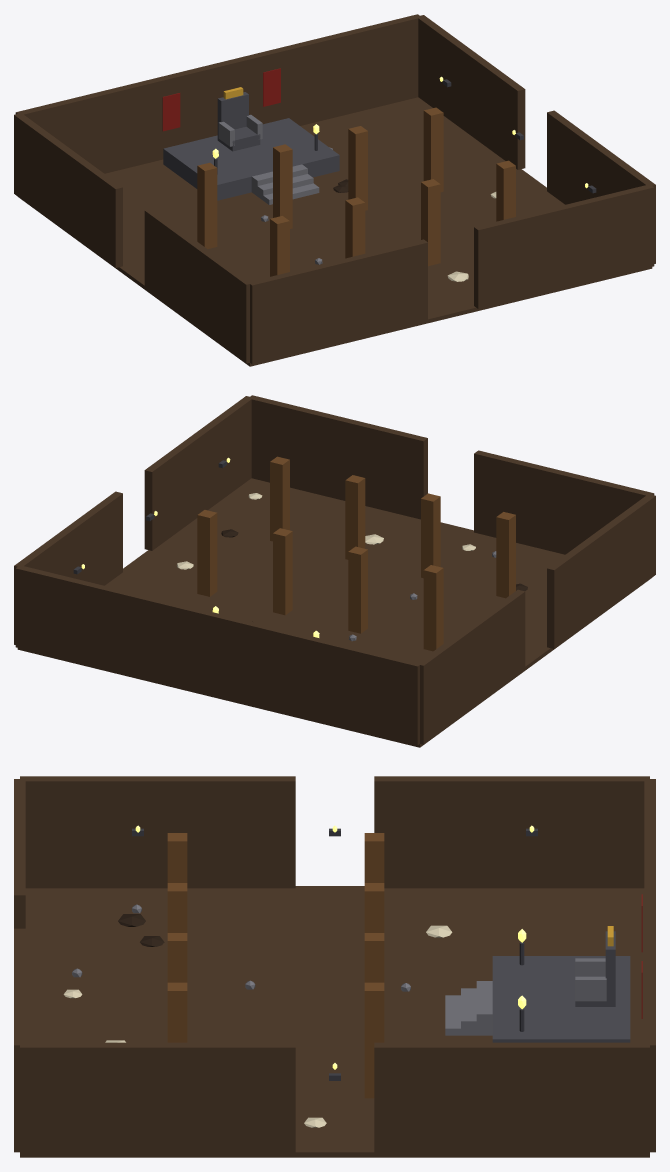
The model's file is throne_hall.glb.
3 renders of one model, top to bottom at view 1: azimuth 30°, elevation 25°; view 2: azimuth 150°, elevation 25°; view 3: azimuth 270°, elevation 25°, orthographic. The views are drawn at different scales.
Parts seen in each view (by area): view 1: throne_hall_LOD0; view 2: throne_hall_LOD0; view 3: throne_hall_LOD0.
Boxes of the visible parts, x1,y1,x2,y2 form: throne_hall_LOD0: [14, 14, 655, 366]; throne_hall_LOD0: [14, 395, 655, 747]; throne_hall_LOD0: [14, 776, 655, 1157].
Size of what is drawn, in the model's own units: 32.6 by 6.3 by 32.6.
Materials: 2 (1 with a texture image).
